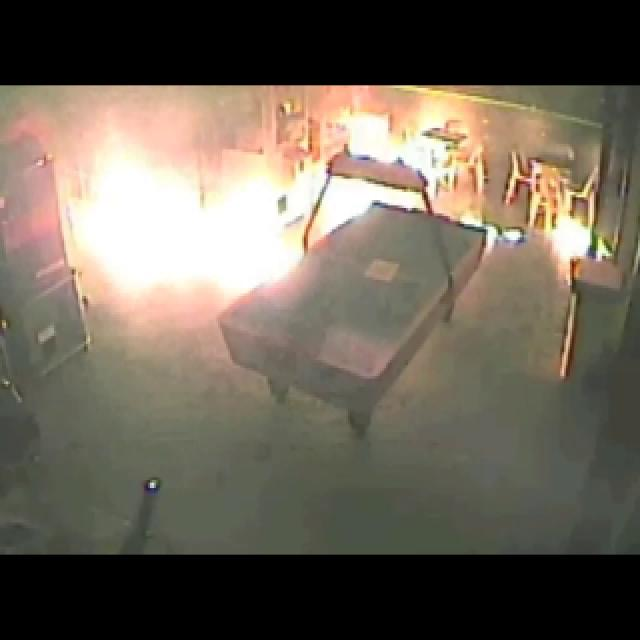arson: (14, 83, 624, 372)
